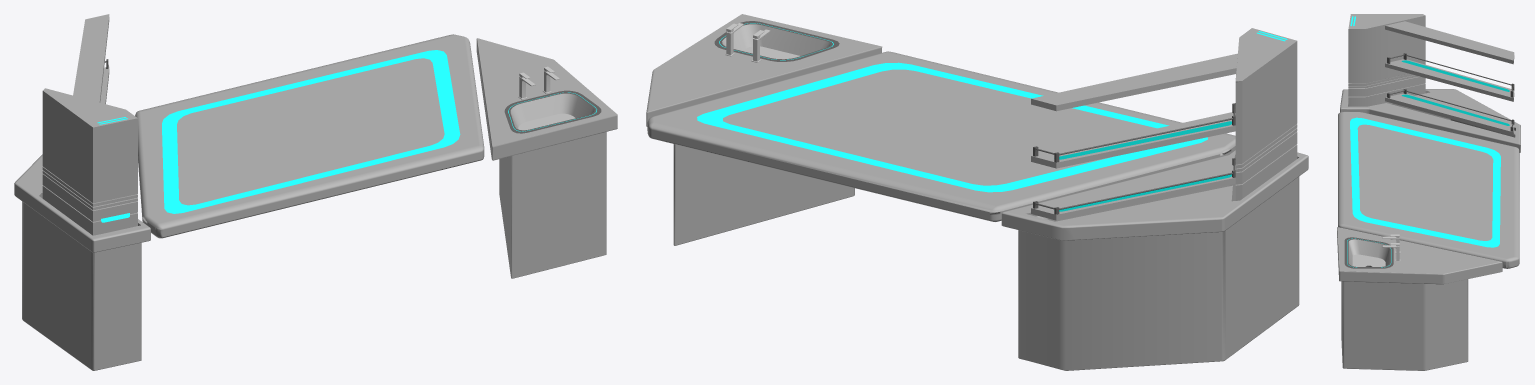
The model's file is CHEMISTRY_TABLE.fbx.
The picture shows the model from 3 angles, left to right: view 1: azimuth 30°, elevation 25°; view 2: azimuth 150°, elevation 25°; view 3: azimuth 270°, elevation 25°; orthographic projection. The views are drawn at different scales.
Visible parts, largest first — view 1: base, RightPart, Faucet, Shelf, EmissionStrip, Sink1, Deck 1; view 2: Faucet, base, RightPart, Shelf, EmissionStrip, Deck 2, Deck 3, Deck 1, Sink1; view 3: base, RightPart, Shelf, Faucet, EmissionStrip, Deck 2, Deck 3, Deck 1, Sink1.
Part boxes in pixels (bbox=[...]): base: bbox=[135, 34, 484, 238]; RightPart: bbox=[476, 38, 617, 278]; Faucet: bbox=[14, 154, 150, 370]; Shelf: bbox=[42, 88, 137, 235]; EmissionStrip: bbox=[162, 50, 460, 213]; Sink1: bbox=[504, 90, 601, 133]; Deck 1: bbox=[73, 14, 109, 102]; Faucet: bbox=[1001, 150, 1308, 370]; base: bbox=[647, 51, 1235, 221]; RightPart: bbox=[646, 14, 882, 245]; Shelf: bbox=[1235, 28, 1297, 200]; EmissionStrip: bbox=[697, 62, 1207, 192]; Deck 2: bbox=[1031, 103, 1235, 168]; Deck 3: bbox=[1031, 157, 1235, 220]; Deck 1: bbox=[1031, 53, 1237, 111]; Sink1: bbox=[714, 21, 839, 61]; base: bbox=[1338, 111, 1519, 268]; RightPart: bbox=[1337, 227, 1502, 370]; Shelf: bbox=[1348, 14, 1425, 106]; Faucet: bbox=[1340, 89, 1520, 152]; EmissionStrip: bbox=[1350, 117, 1500, 247]; Deck 2: bbox=[1385, 53, 1514, 101]; Deck 3: bbox=[1385, 89, 1514, 135]; Deck 1: bbox=[1385, 21, 1514, 64]; Sink1: bbox=[1344, 237, 1393, 268].
Bounding box in the file's own units: 415 × 185 × 174.
